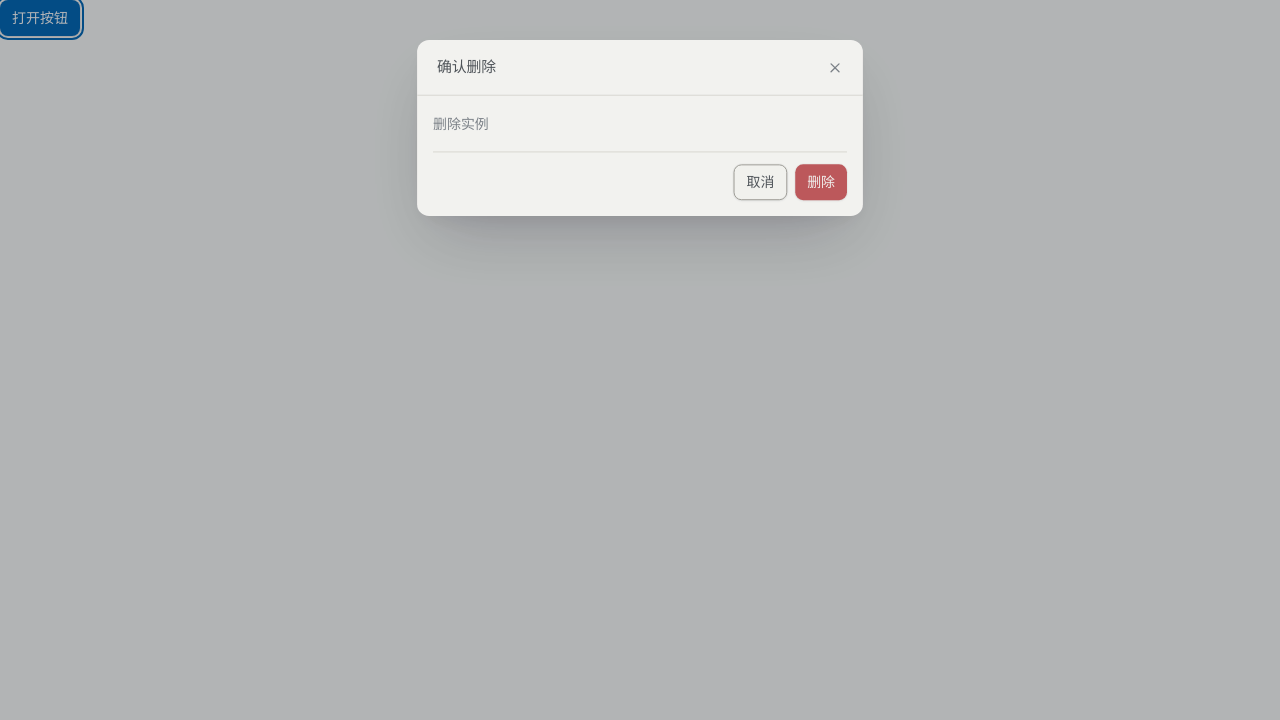
Test: Dialog › closes on Escape and restores focus
The image size is (1280, 720).
Click the button "打开按钮" at coordinates (40, 18), box [0,0,80,36]
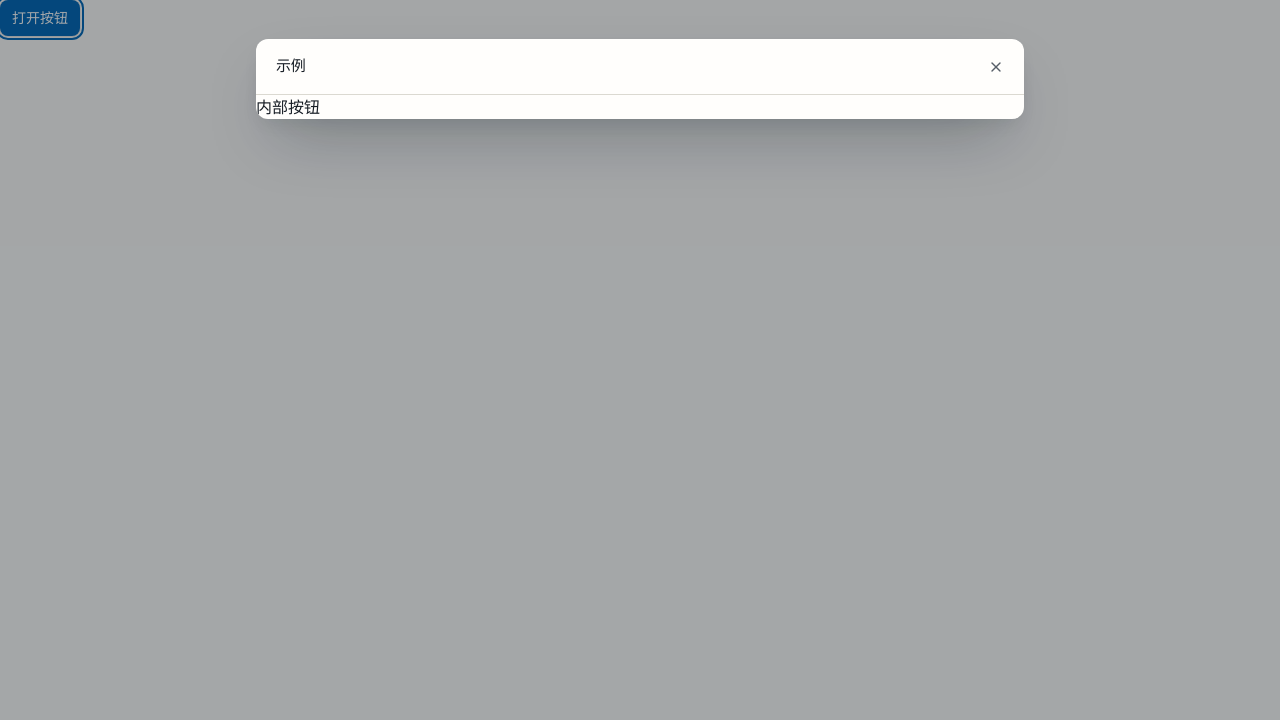
Press Escape
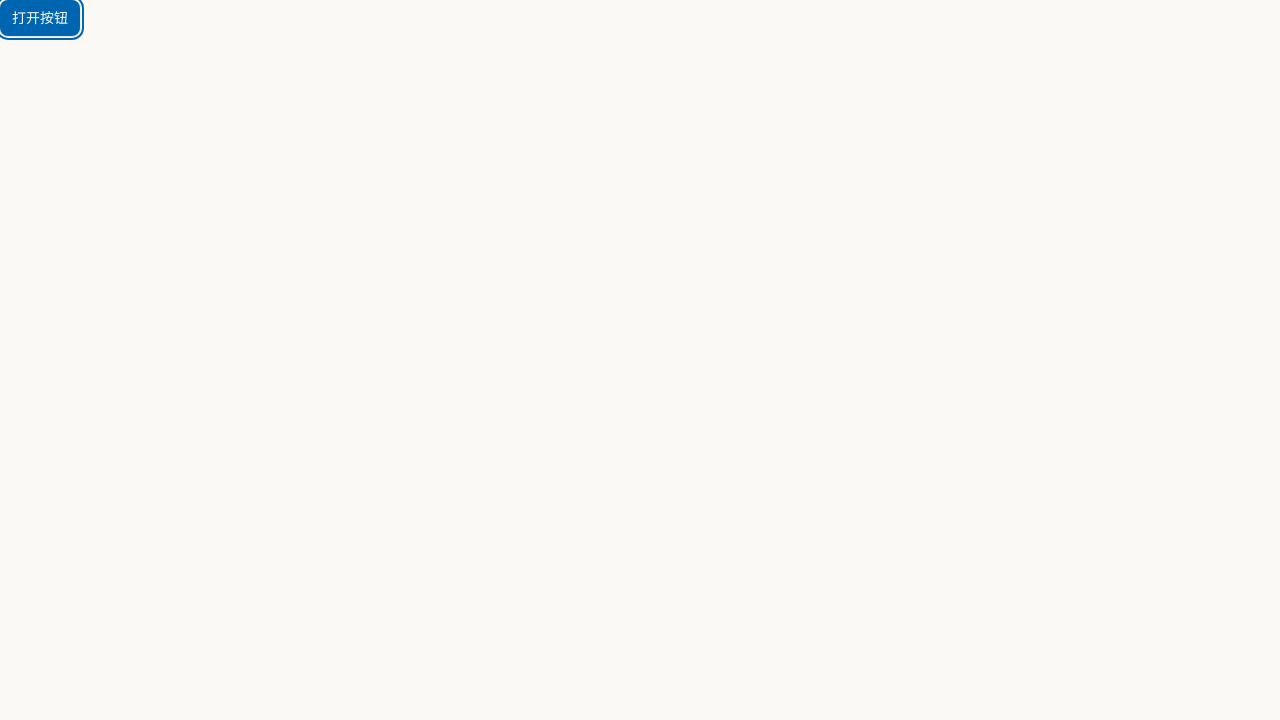
expect the dialog is gone: met
